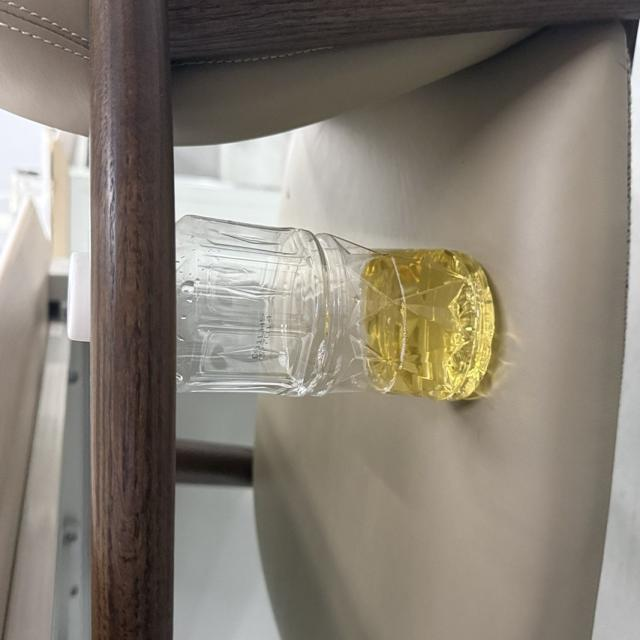low: (176, 216, 494, 399), (68, 254, 91, 340)
